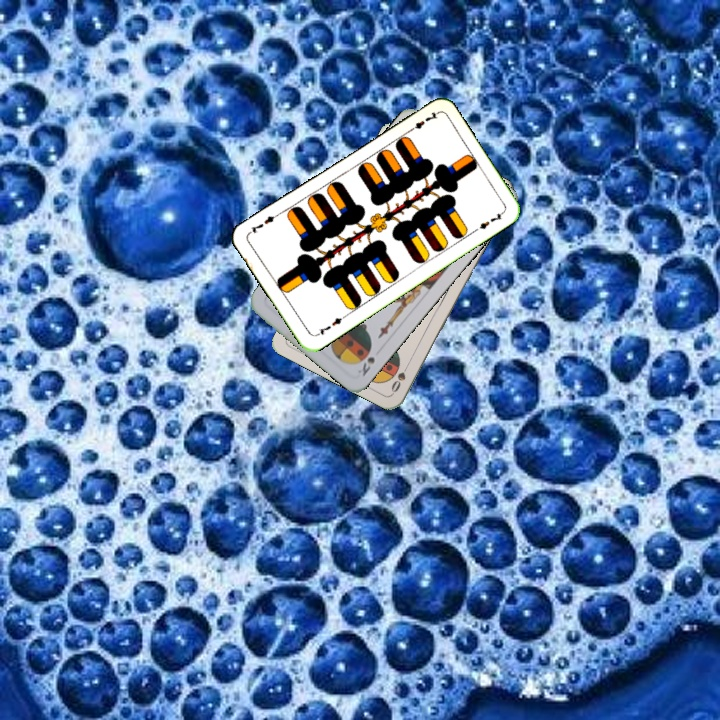E7: (312, 311, 348, 339), (404, 108, 440, 135)
SK: (352, 353, 377, 379)
SO: (387, 358, 413, 395)
